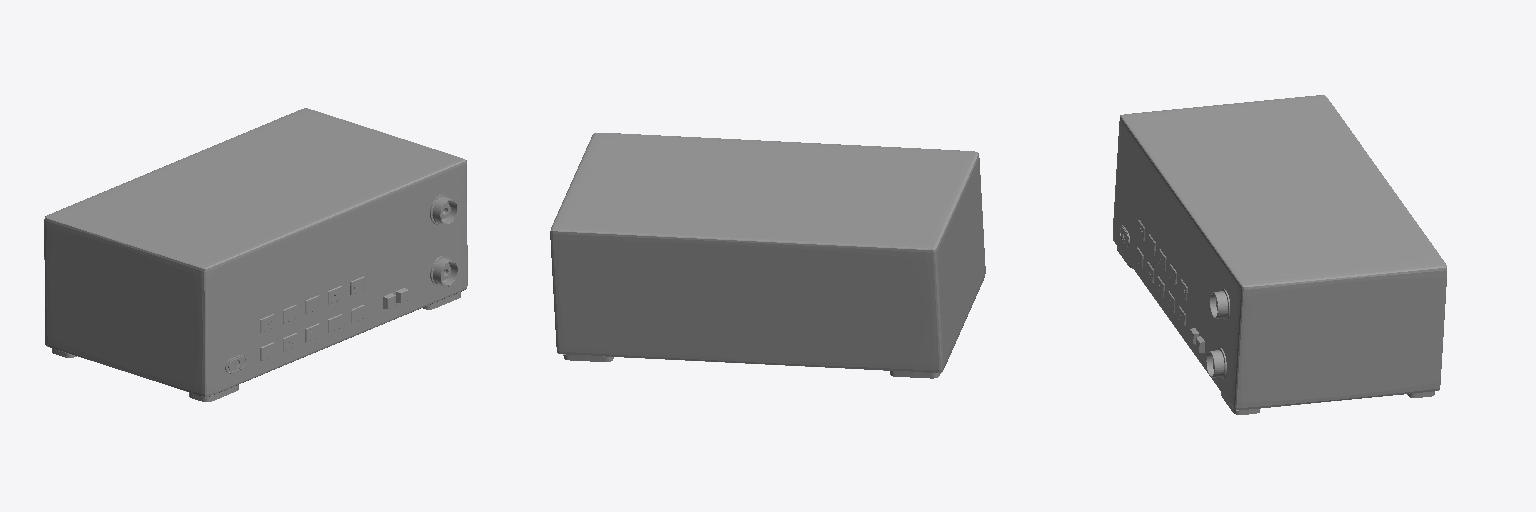
Rendered from cymometer.obj.
3 views of the same model, side by side, from view 1: azimuth 30°, elevation 25°; view 2: azimuth 150°, elevation 25°; view 3: azimuth 270°, elevation 25° (orthographic).
Parts seen in each view (by area): view 1: Box008.001, Object007.001, Object009.001, Cylinder016.001, Cylinder017.001; view 2: Box008.001, Object009.001; view 3: Box008.001, Object007.001.
Part boxes in pixels (left/top/right/bottom): Box008.001: left=44, top=108, right=467, bottom=397; Object007.001: left=214, top=168, right=461, bottom=392; Object009.001: left=52, top=292, right=460, bottom=401; Cylinder016.001: left=430, top=256, right=458, bottom=286; Cylinder017.001: left=430, top=194, right=457, bottom=224; Box008.001: left=550, top=133, right=985, bottom=372; Object009.001: left=563, top=355, right=940, bottom=378; Box008.001: left=1113, top=95, right=1446, bottom=410; Object007.001: left=1114, top=125, right=1237, bottom=402.
Bounding box in the file's own units: 6.93 × 2.67 × 5.22.